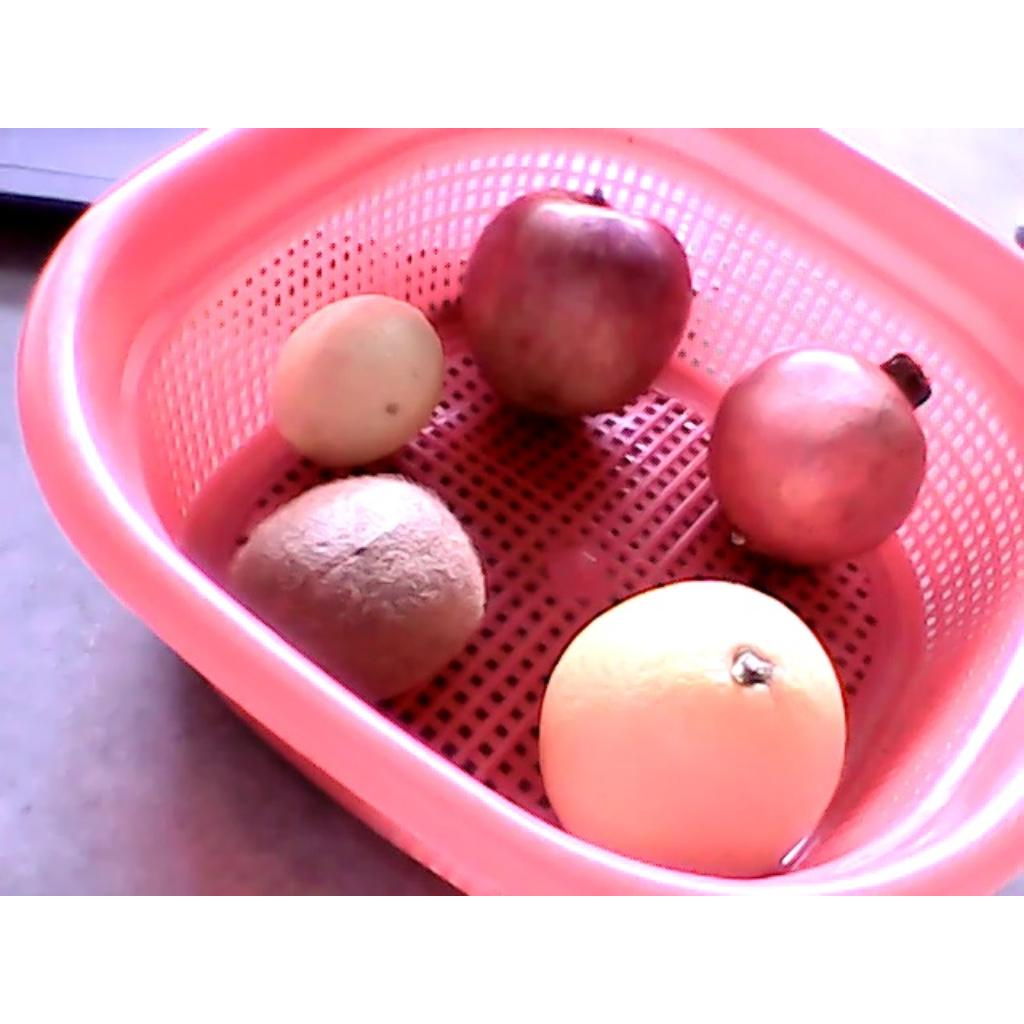apple: (460, 187, 692, 419)
kiwi: (227, 475, 486, 700)
lemon: (271, 293, 444, 466)
orange: (537, 579, 846, 878)
pomegranate: (710, 345, 935, 569)
